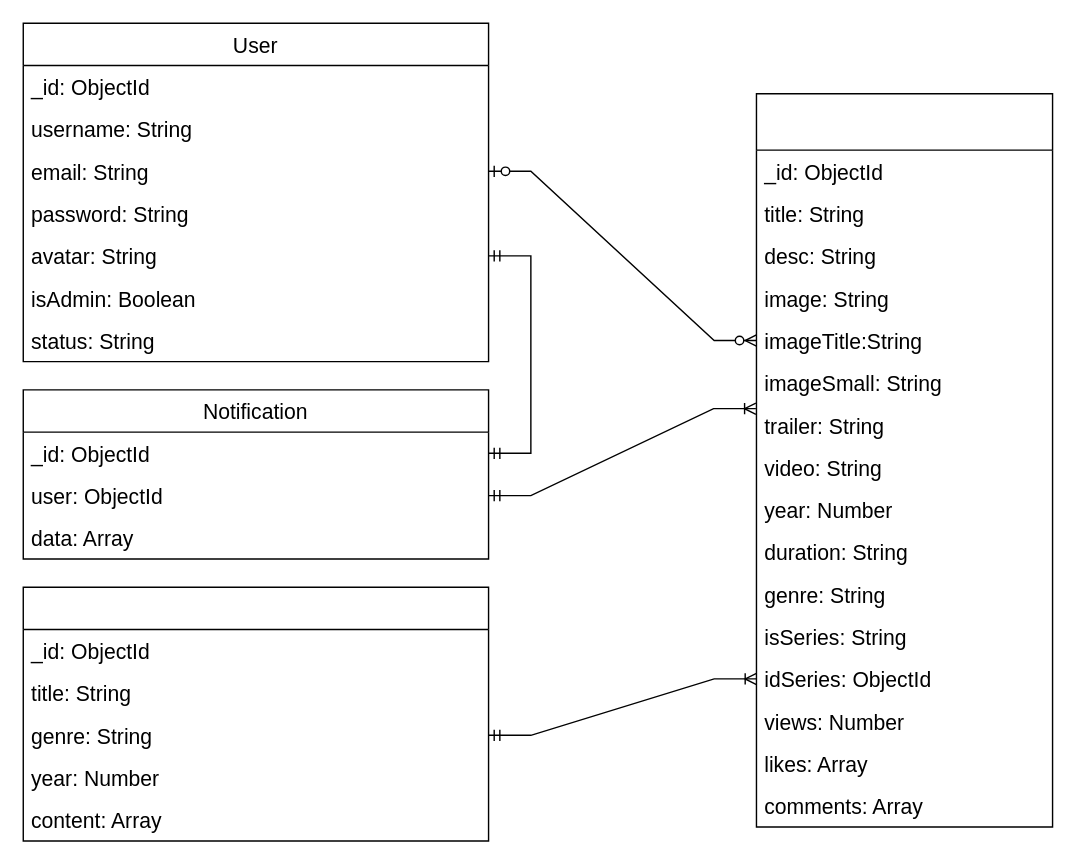
Some shapes in this 1076 by 864 pixel diagram are drawn without their labels. Each missing label, with the box of its shape:
Movie: (755, 92, 1053, 827)
Series: (22, 586, 489, 841)
